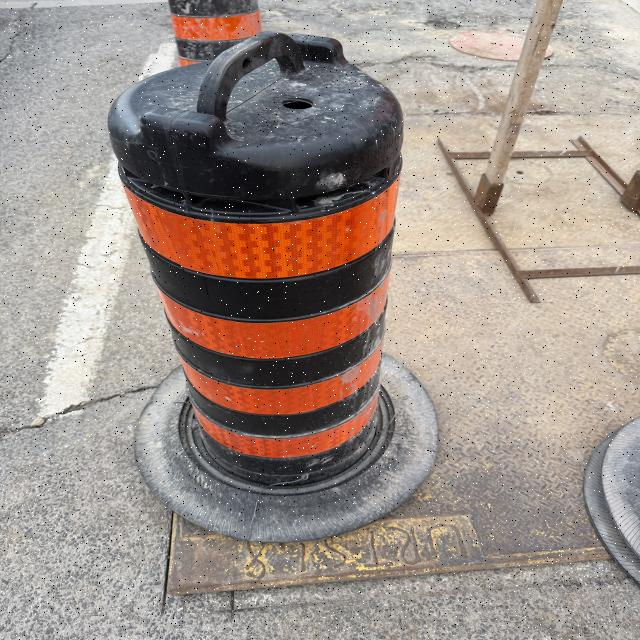Teraffic Barrel: (109, 33, 436, 541), (169, 0, 262, 66)
